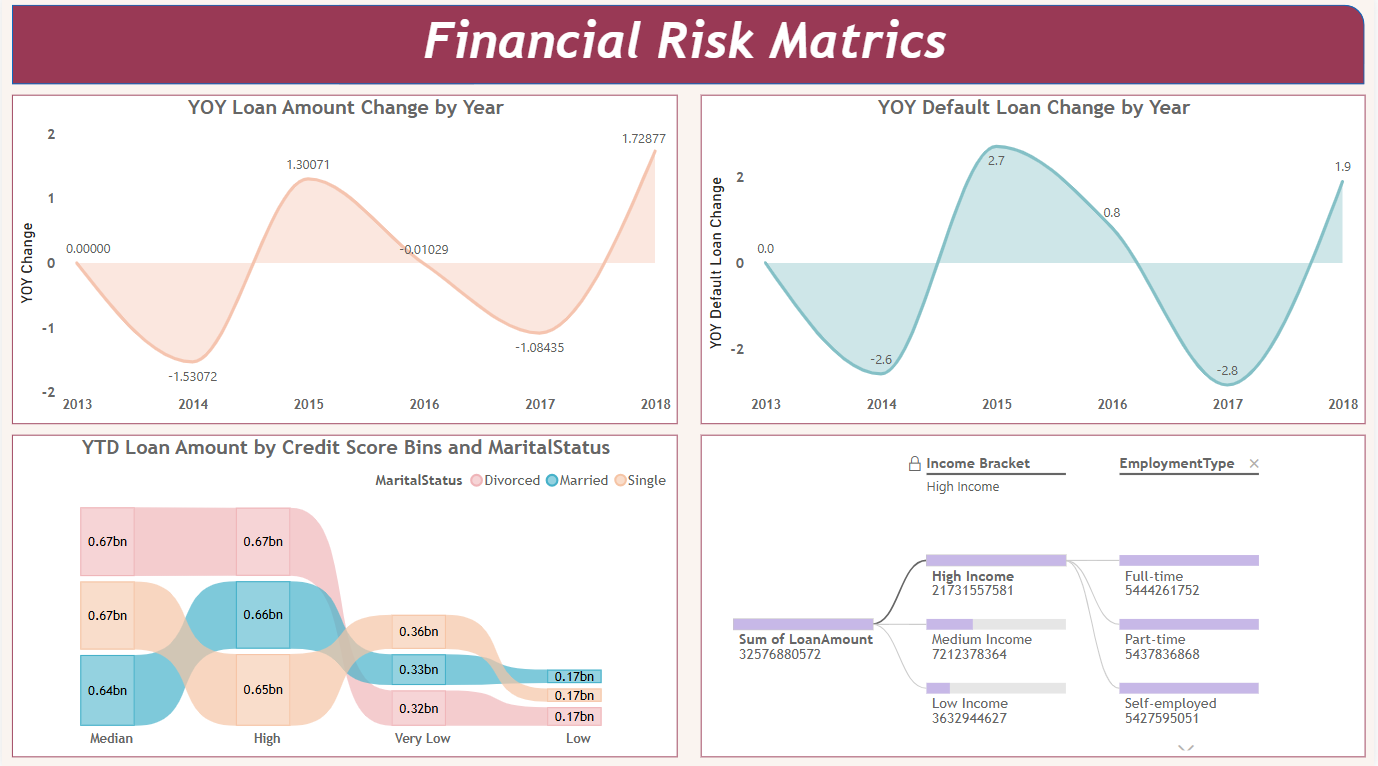

The page's visual inventory and layout, read from the dashboard file:
{"tool":"powerbi","page":{"name":"Financial Risk Matrics","canvas":[1280,720],"ordinal":2},"visuals":[{"type":"shape","box":[9.5,8.1,1261.4,74.3],"z":0},{"type":"lineChart","title":"YOY Loan Amount Change by Year","fields":{"Category":["Loan_default.Year"],"Y":["Measures Table 3 (2).YOY Change"]},"box":[9.8,91.7,621.2,306.9],"z":1000},{"type":"lineChart","title":"YOY Default Loan Change by Year","fields":{"Category":["Loan_default.Year"],"Y":["Measures Table 3 (2).YOY Default Laon Change"]},"box":[651.8,91.7,620,306.9],"z":2000},{"type":"ribbonChart","fields":{"Category":["Loan_default.Credit Score Bins"],"Y":["Measures Table 3 (2).YTD Loan Amount"],"Series":["Loan_default.MaritalStatus"]},"box":[9.8,409.6,621.2,300.8],"z":3000},{"type":"decompositionTreeVisual","fields":{"Analyze":["Sum(Loan_default.LoanAmount)"],"ExplainBy":["Loan_default.Income Bracket","Loan_default.EmploymentType"]},"box":[651.8,409.6,620,300.8],"z":4000}]}

Visuals, with their boxes in screenshot pixels (x1, y1, x2, y2), scaled from the page's 1280x720 canvas onto the 1378x766 screenshot:
shape: box(10, 9, 1368, 88)
"YOY Loan Amount Change by Year" lineChart: box(11, 98, 679, 424)
"YOY Default Loan Change by Year" lineChart: box(702, 98, 1369, 424)
ribbonChart - Loan_default.Credit Score Bins x Measures Table 3 (2).YTD Loan Amount: box(11, 436, 679, 756)
decompositionTreeVisual - Sum(Loan_default.LoanAmount) x Loan_default.Income Bracket: box(702, 436, 1369, 756)
